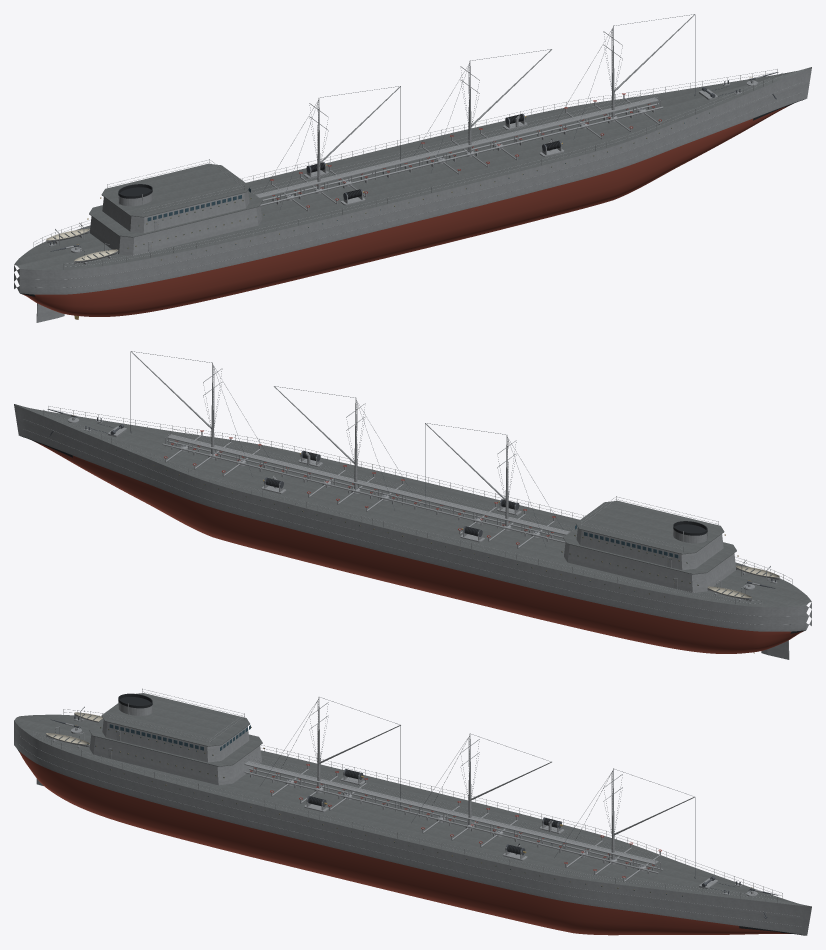
The model's file is de_support_1932.glb.
3 views of the same model, one above another, from view 1: azimuth 30°, elevation 25°; view 2: azimuth 150°, elevation 25°; view 3: azimuth 330°, elevation 25° (orthographic).
Parts seen in each view (by area): view 1: Fleet support ship · 1932; view 2: Fleet support ship · 1932; view 3: Fleet support ship · 1932.
Boxes of the visible parts, left/top/right/bottom form: Fleet support ship · 1932: left=14, top=14, right=811, bottom=322; Fleet support ship · 1932: left=14, top=351, right=811, bottom=659; Fleet support ship · 1932: left=14, top=688, right=811, bottom=935.
Bounding box in the file's own units: 144 × 27.6 × 18.09.
9 materials, 2 textured.
